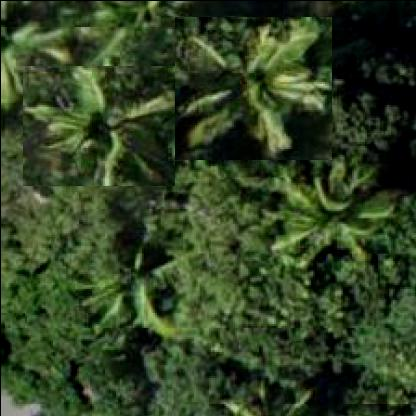coconut tree: (174, 15, 332, 159), (22, 64, 175, 185), (267, 154, 395, 268)
